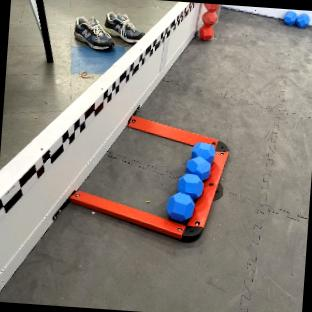V5_BLUE: (168, 193, 194, 220), (177, 174, 203, 197), (186, 157, 210, 179), (191, 141, 214, 161), (283, 11, 296, 24), (297, 14, 309, 27)
